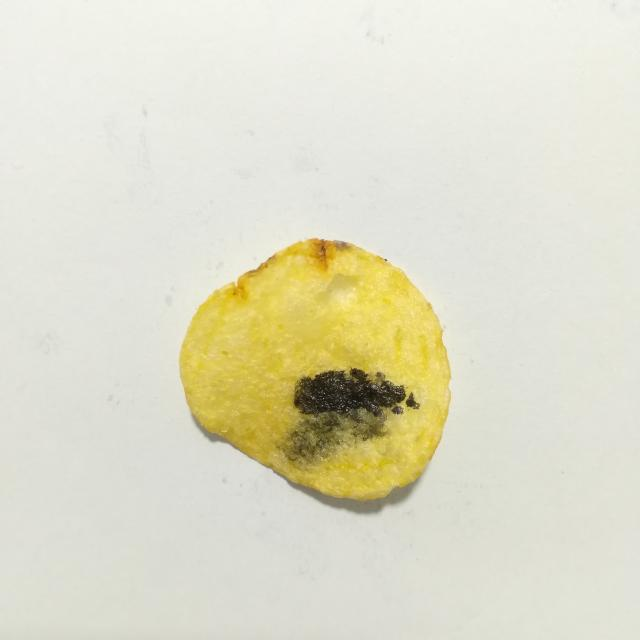chip: (180, 239, 451, 500)
damaged: (294, 368, 419, 416)
semi-damaged: (278, 409, 387, 465)
